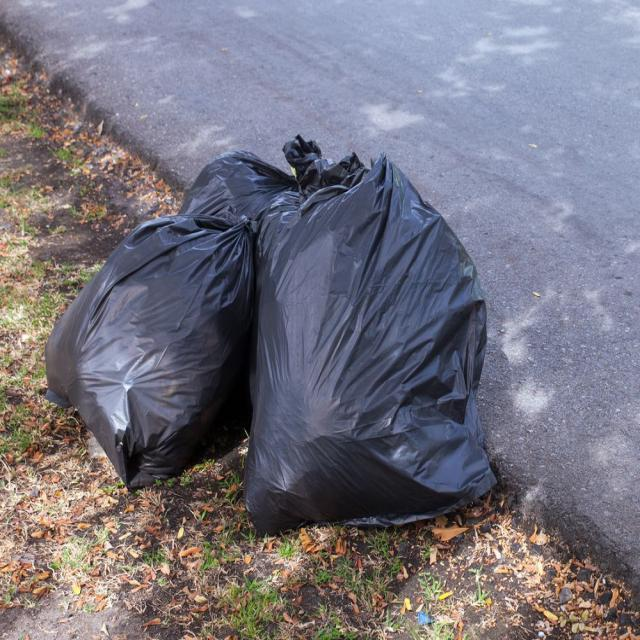Trashbag: (247, 156, 524, 536), (39, 198, 258, 490)
